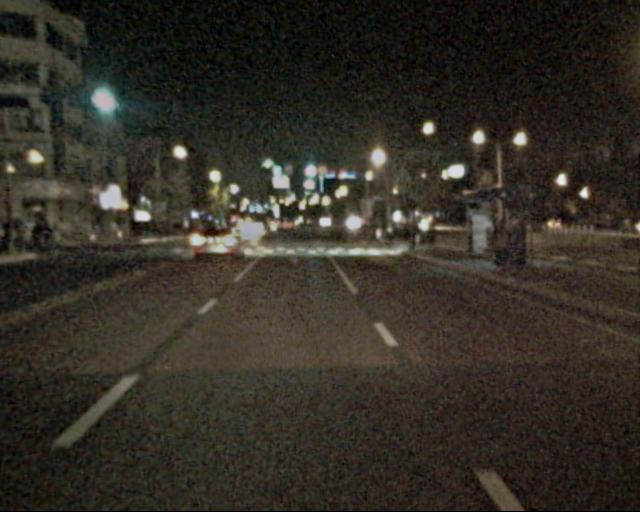person: (500, 218, 522, 272), (485, 220, 506, 275)
